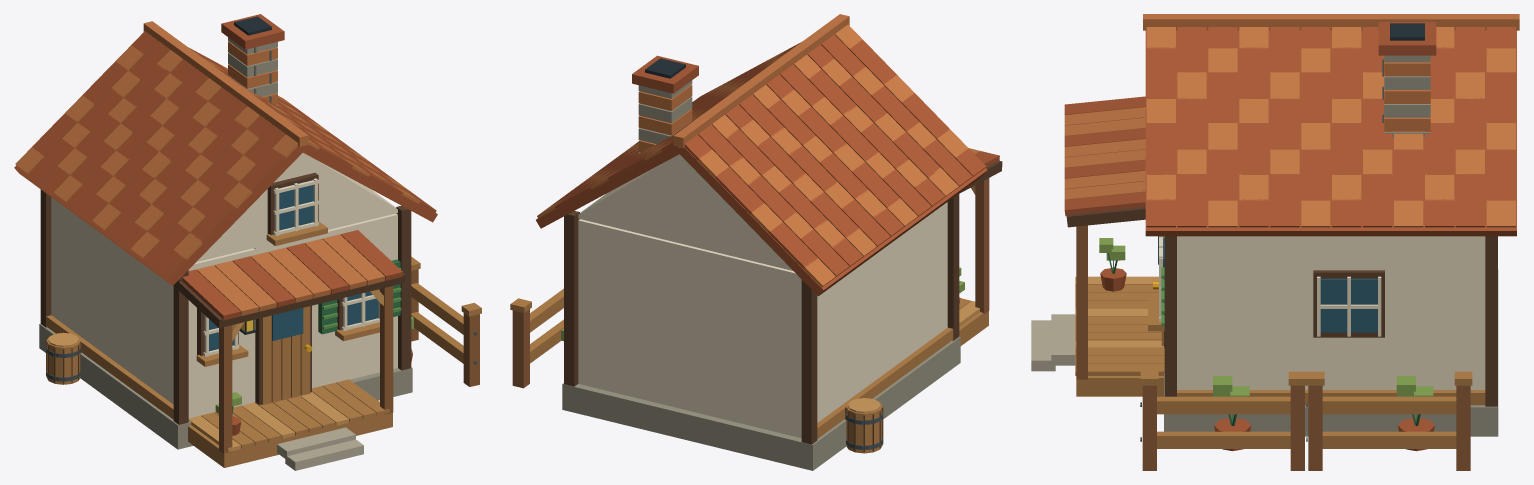
Rendered from farmhouse.glb.
3 renders of one model, left to right at view 1: azimuth 30°, elevation 25°; view 2: azimuth 150°, elevation 25°; view 3: azimuth 270°, elevation 25°, orthographic. The views are drawn at different scales.
Parts seen in each view (by area): view 1: body__tile, body__cream, body__tile2, body__wood2, body__wood_dark, body__stone, body__wood, front_door__wood2, body__stone2, body__wood3, body__glass, front_door__glass (+3 smaller); view 2: body__cream, body__tile, body__tile2, body__stone, body__wood_dark, body__wood2, body__wood, body__wood3, body__dark; view 3: body__tile, body__cream, body__tile2, body__wood2, body__wood, body__stone, body__wood_dark, body__glass, body__stone2, body__leaf2, body__wood3, body__dark.
Part boxes in pixels (x1=…): body__tile: x1=14, y1=14, x2=437, y2=435; body__cream: x1=51, y1=153, x2=397, y2=418; body__tile2: x1=15, y1=21, x2=419, y2=315; body__wood2: x1=46, y1=221, x2=481, y2=467; body__wood_dark: x1=40, y1=172, x2=411, y2=424; body__stone: x1=39, y1=37, x2=412, y2=449; body__wood: x1=219, y1=269, x2=479, y2=453; front_door__wood2: x1=262, y1=306, x2=310, y2=404; body__stone2: x1=277, y1=427, x2=363, y2=470; body__wood3: x1=48, y1=289, x2=383, y2=452; body__glass: x1=209, y1=185, x2=378, y2=351; front_door__glass: x1=272, y1=308, x2=303, y2=340; body__cream: x1=578, y1=154, x2=947, y2=438; body__tile: x1=536, y1=34, x2=999, y2=303; body__tile2: x1=537, y1=14, x2=980, y2=287; body__stone: x1=562, y1=80, x2=960, y2=470; body__wood_dark: x1=564, y1=160, x2=1002, y2=452; body__wood2: x1=510, y1=288, x2=988, y2=453; body__wood: x1=512, y1=178, x2=989, y2=388; body__wood3: x1=848, y1=185, x2=979, y2=413; body__dark: x1=645, y1=58, x2=685, y2=78; body__tile: x1=1064, y1=22, x2=1516, y2=451; body__cream: x1=1159, y1=236, x2=1485, y2=389; body__tile2: x1=1064, y1=14, x2=1519, y2=227; body__wood2: x1=1075, y1=284, x2=1485, y2=448; body__wood: x1=1076, y1=225, x2=1470, y2=470; body__stone: x1=1164, y1=55, x2=1498, y2=436; body__wood_dark: x1=1066, y1=207, x2=1497, y2=406; body__glass: x1=1163, y1=238, x2=1377, y2=332; body__stone2: x1=1031, y1=314, x2=1075, y2=371; body__leaf2: x1=1099, y1=238, x2=1433, y2=396; body__wood3: x1=1075, y1=276, x2=1164, y2=347; body__dark: x1=1390, y1=23, x2=1424, y2=40.
Bounding box in the file's own units: 5 × 4.58 × 5.44.
